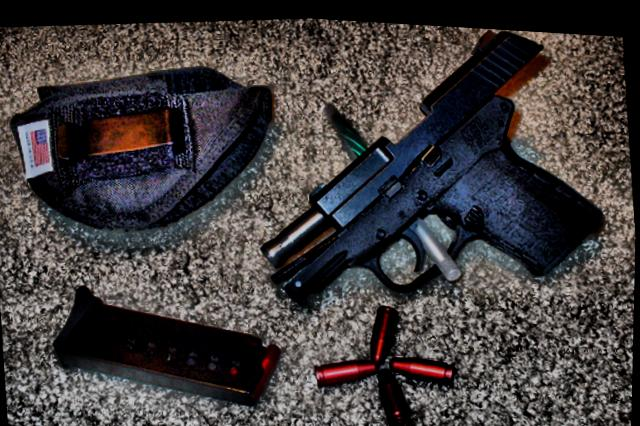pistol: (241, 11, 613, 319)
